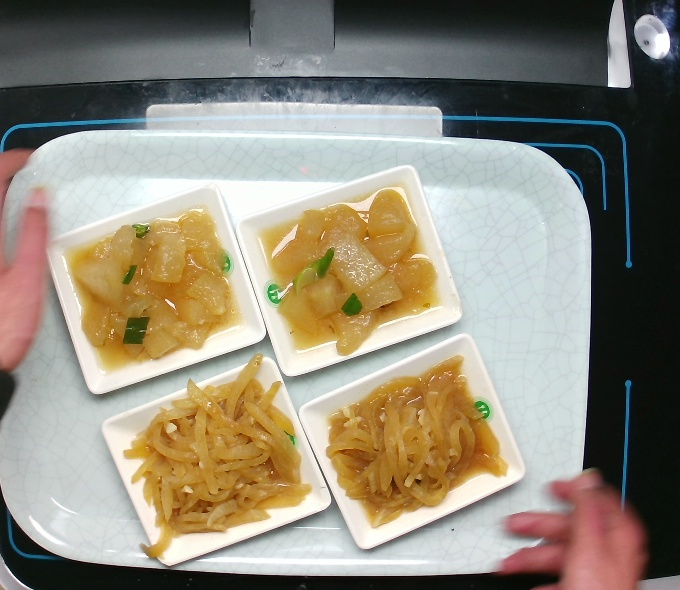wcq-DongGua: (259, 183, 448, 361), (61, 202, 246, 373)
wcq-LuoBoSi: (117, 352, 311, 558), (325, 348, 508, 533)
